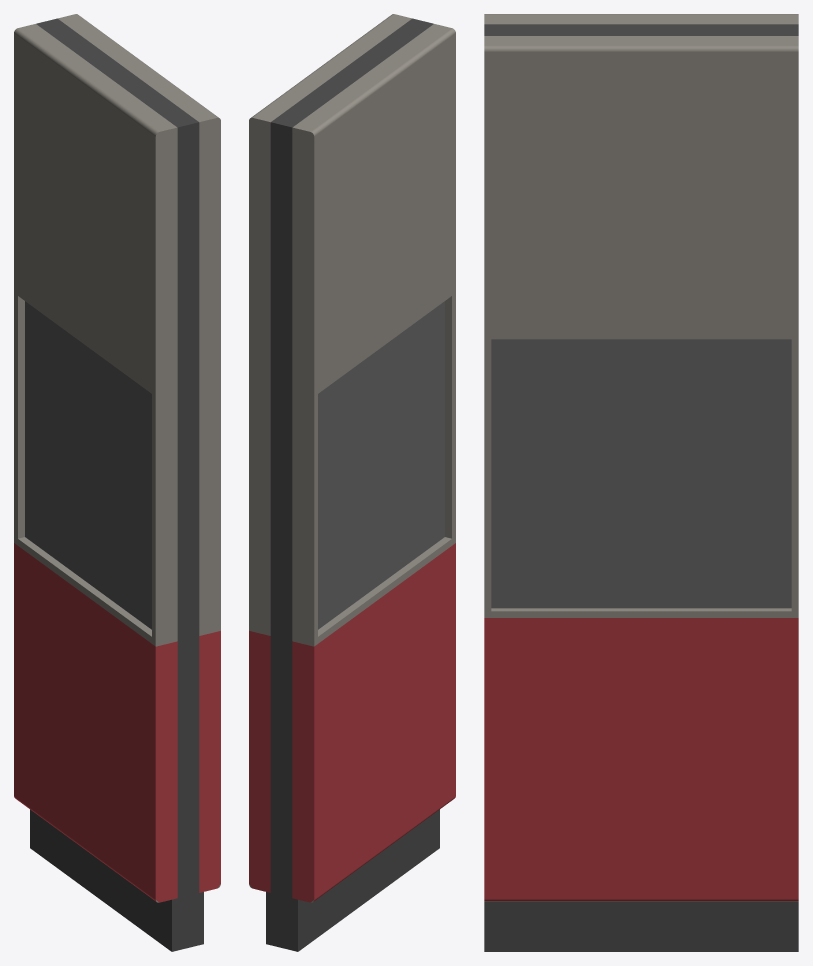
The model's file is Meseum_Stand_up_Sign.glb.
3 renders of one model, left to right at view 1: azimuth 30°, elevation 25°; view 2: azimuth 150°, elevation 25°; view 3: azimuth 270°, elevation 25°, orthographic. The views are drawn at different scales.
Visible parts, largest first — view 1: Cube; view 2: Cube; view 3: Cube.
Boxes of the visible parts, <box> form: Cube: <box>14,14,220,951</box>; Cube: <box>249,14,455,951</box>; Cube: <box>484,14,798,951</box>.
Bounding box in the file's own units: 0.1768 × 2.14 × 0.6667.
